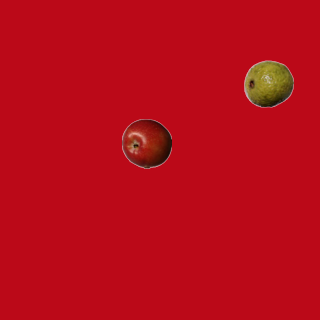Apple Braeburn: (121, 118, 171, 168)
Guava: (243, 58, 293, 108)
